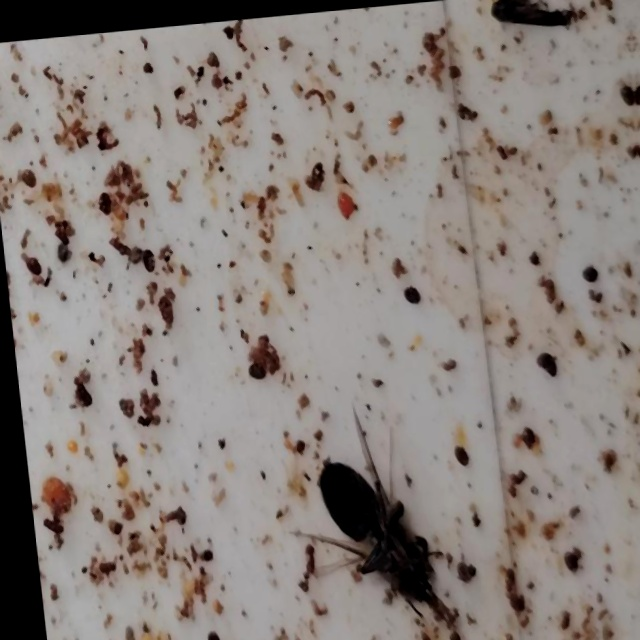varroa: (551, 546, 575, 577), (529, 349, 553, 377), (90, 181, 109, 215), (510, 419, 530, 451), (613, 80, 634, 108), (135, 243, 154, 273), (18, 246, 39, 273), (442, 439, 462, 467), (445, 561, 468, 585), (396, 283, 418, 307), (15, 160, 35, 185), (240, 355, 261, 377), (574, 263, 593, 286)
